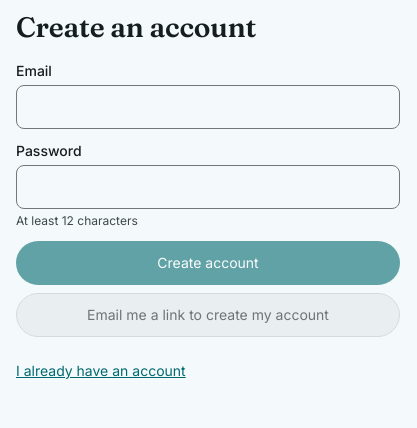
Test: SignUpPage (issue #1250) › rejects a short password client-side with the catalogue error
Type "a@b.co" into the field labelled "Email" at (208, 107), box [16,85,400,129]
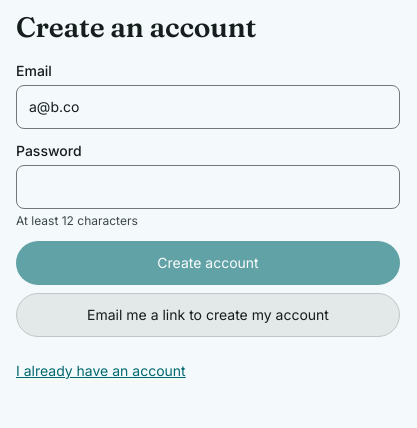
Type "short" into the password field labelled "Password" at (208, 187), box [16,165,400,209]
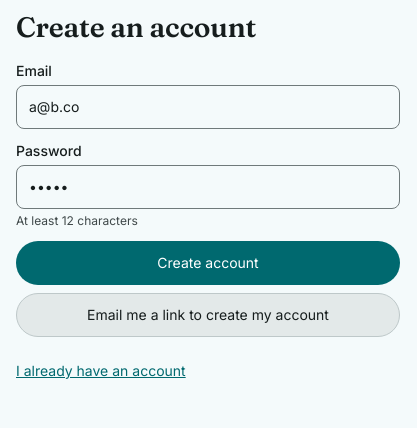
Click the button "Create account" at (208, 263), box [16,241,400,285]
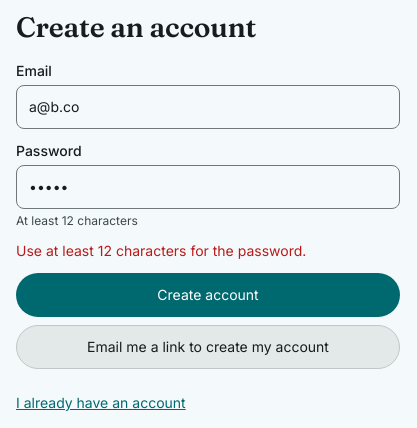
Now the text "Use at least 12 characters for the password." is shown, box [16,242,306,259]
